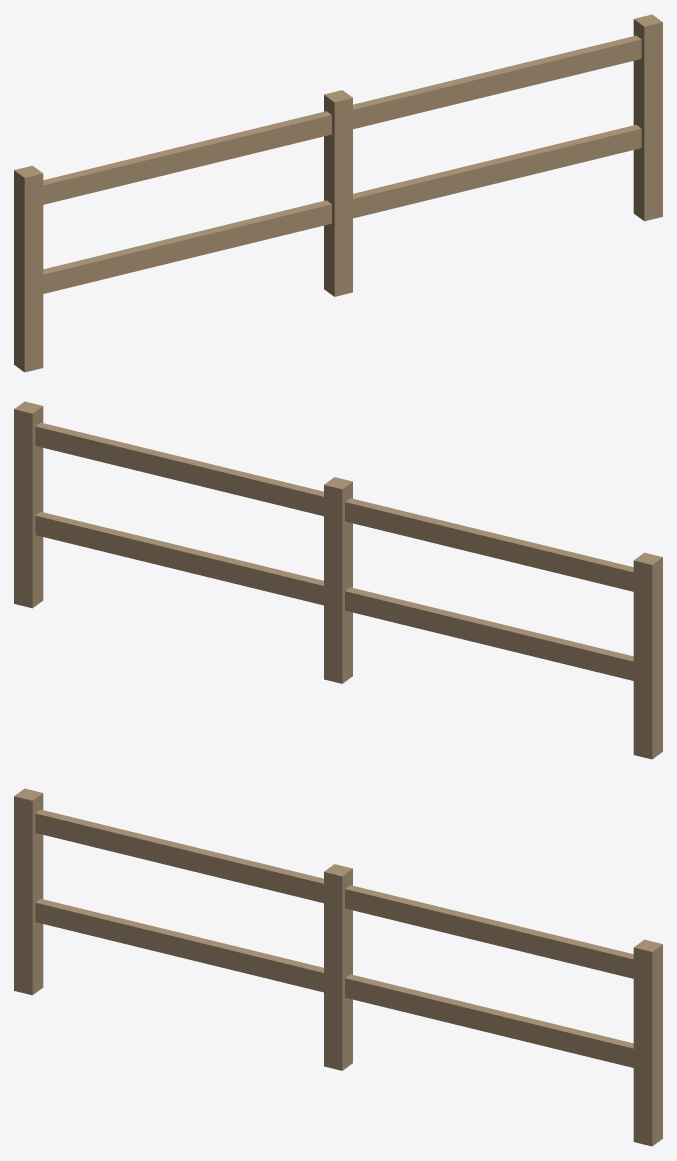
The model's file is wood_4m.glb.
3 renders of one model, top to bottom at view 1: azimuth 30°, elevation 25°; view 2: azimuth 150°, elevation 25°; view 3: azimuth 330°, elevation 25°, orthographic.
Visible parts, largest first — view 1: wood_4m; view 2: wood_4m; view 3: wood_4m.
Boxes of the visible parts, left/top/right/bottom form: wood_4m: left=14, top=14, right=662, bottom=372; wood_4m: left=14, top=401, right=662, bottom=759; wood_4m: left=14, top=788, right=662, bottom=1146.
Size of the model in its own units: 4.12 by 1.2 by 0.12.
